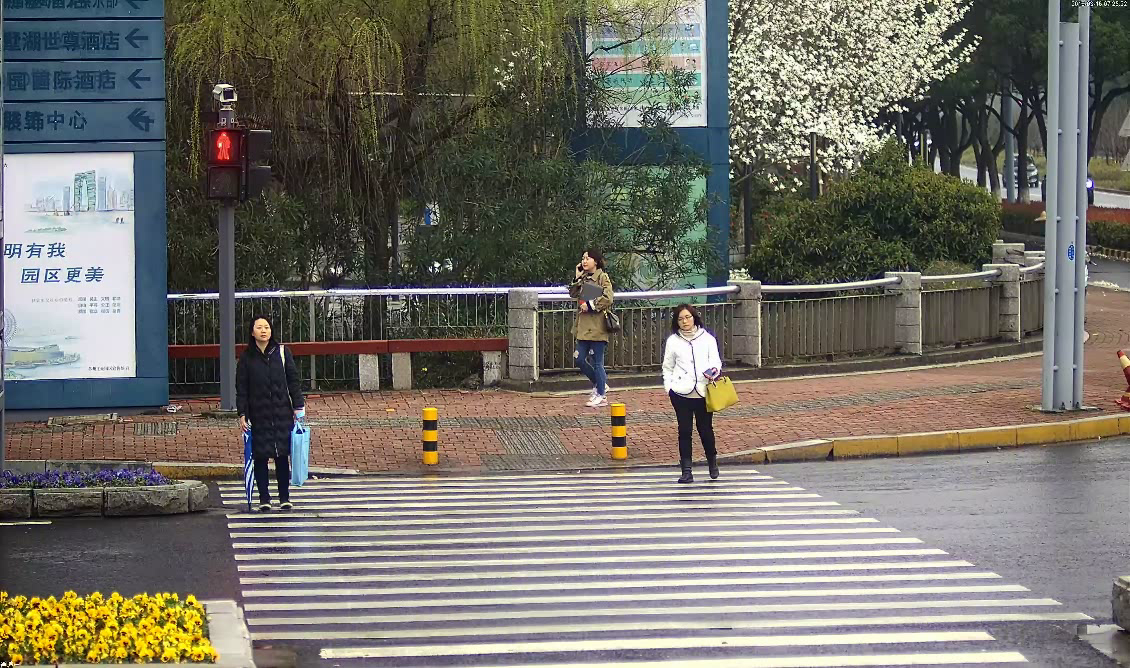person: (228, 312, 318, 517), (658, 301, 743, 489), (564, 244, 625, 413)
